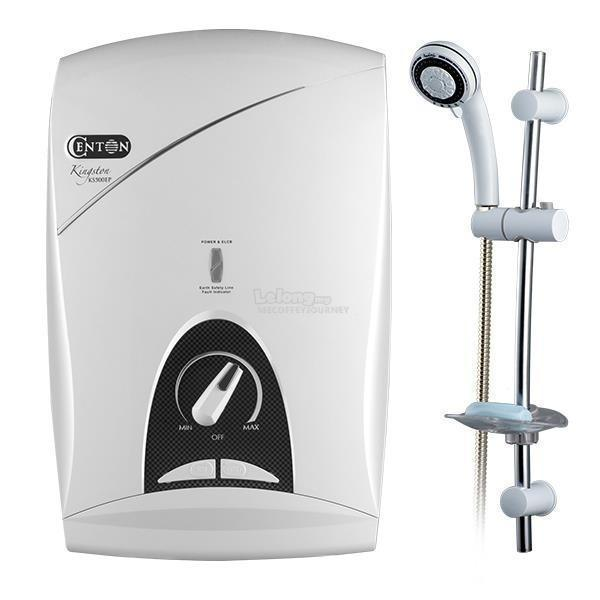Ducha: (388, 27, 580, 557)
